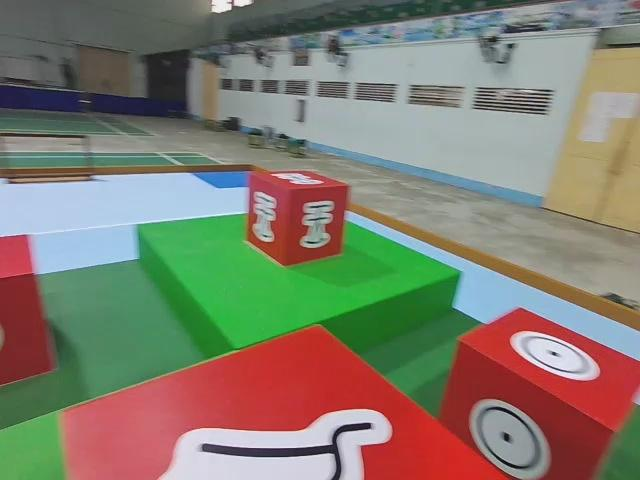R2 Real: (58, 320, 510, 480), (435, 302, 640, 479), (243, 167, 352, 268)
